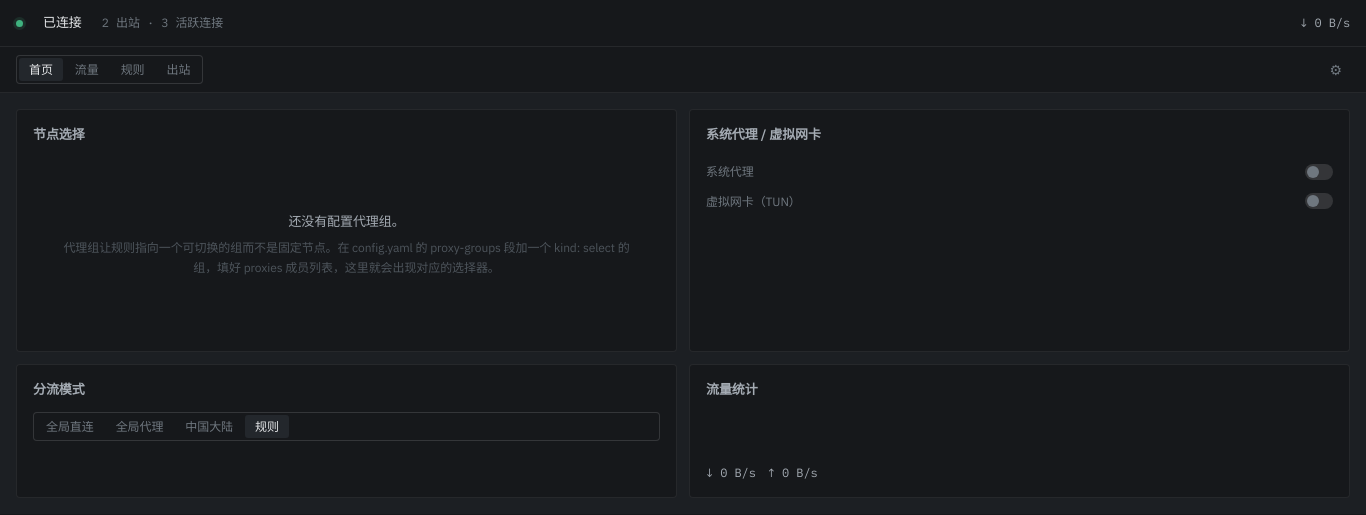
Test: 组装：未就绪的命令不该让界面垮掉 › 测速报 not-ready 时列表与延迟列照常
The image size is (1366, 515).
Click the radio button labelled "出站": {"x": 178, "y": 70} 156,58 -> 200,81
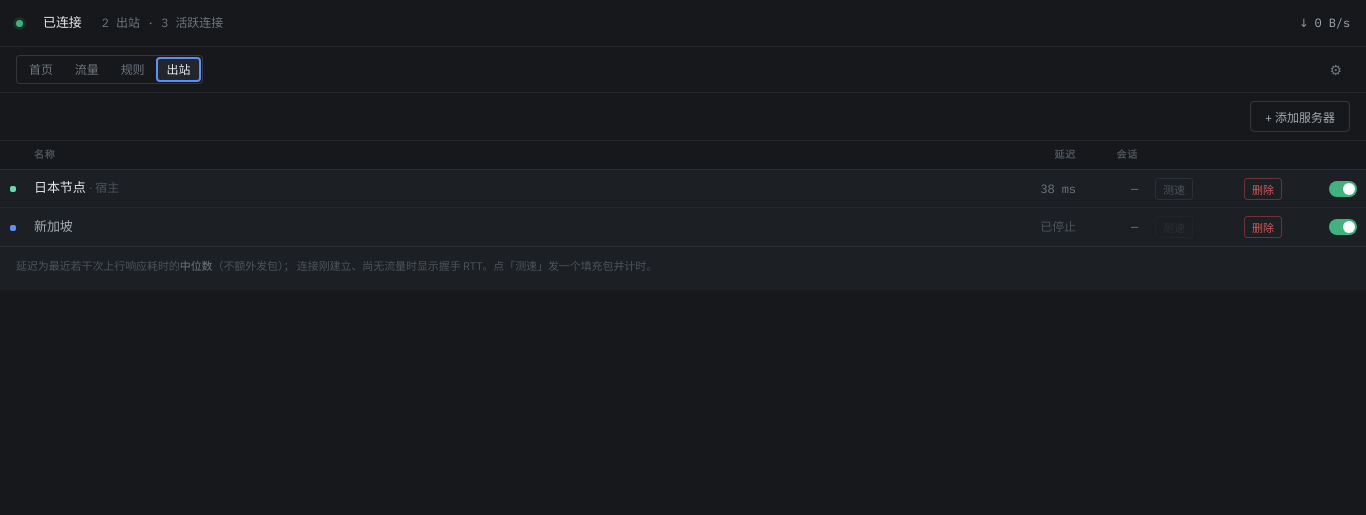
Click the button with aria-label "测试延迟": {"x": 1174, "y": 189} 1155,178 -> 1193,200
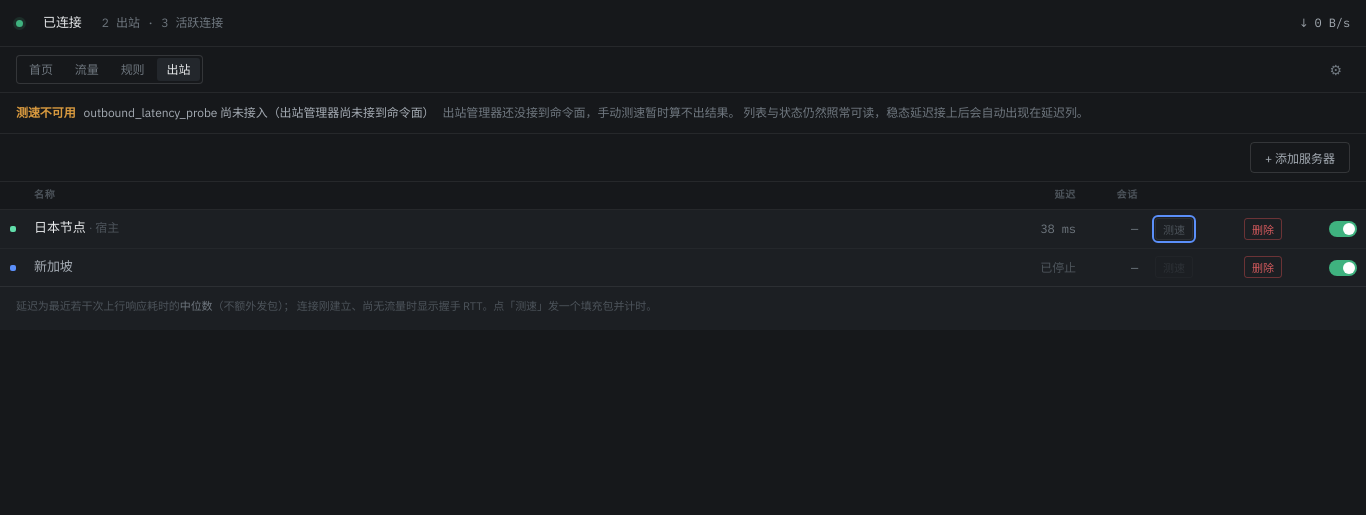
Result: the text "38 ms" is shown at 1012,210 -> 1084,248
Result: the text "测速不可用" is shown at 16,103 -> 76,123
